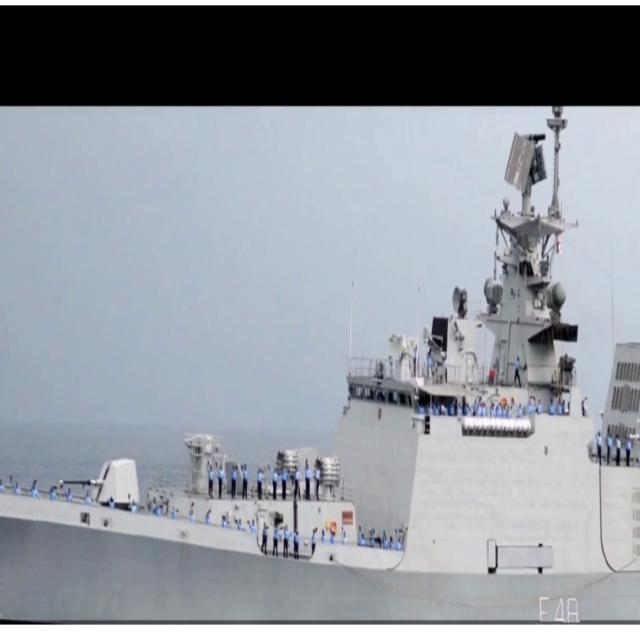OCR: (526, 586, 580, 623)
